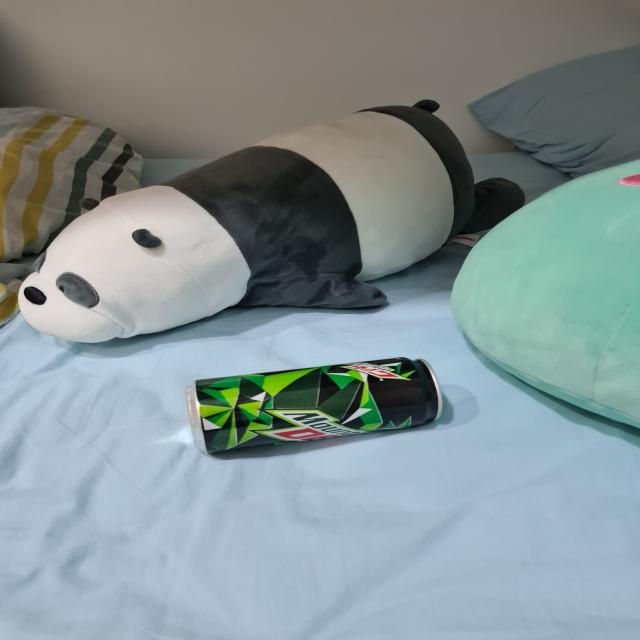non-organic waste: (191, 356, 443, 461)
